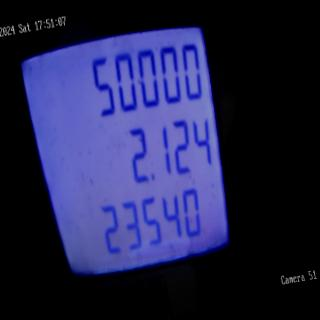screen: (7, 0, 253, 307)
